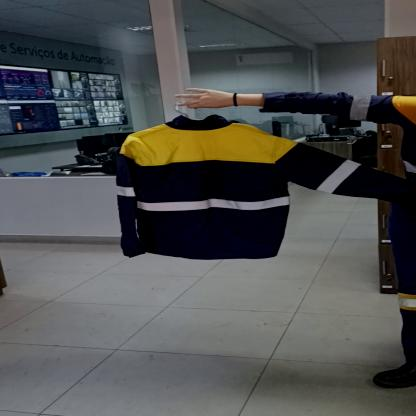C_eletrica: (114, 115, 416, 259)
